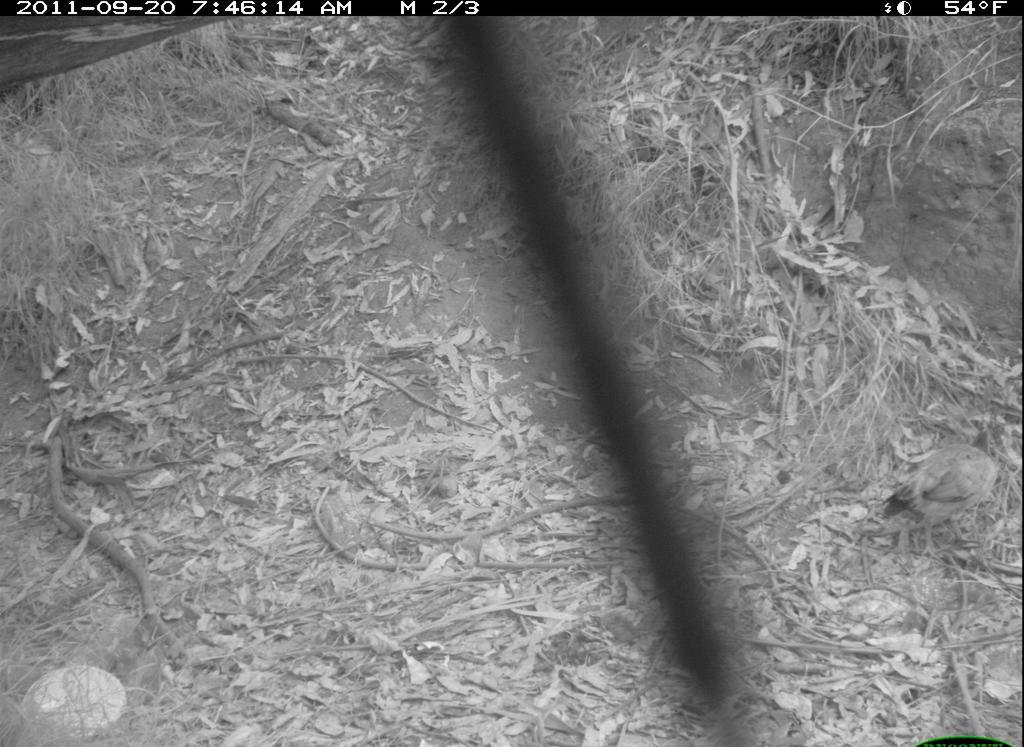bird: (876, 417, 1004, 564)
